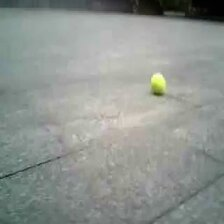tennis: (151, 73, 166, 92)
